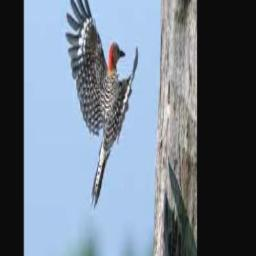Woodpecker: (65, 0, 138, 208)
